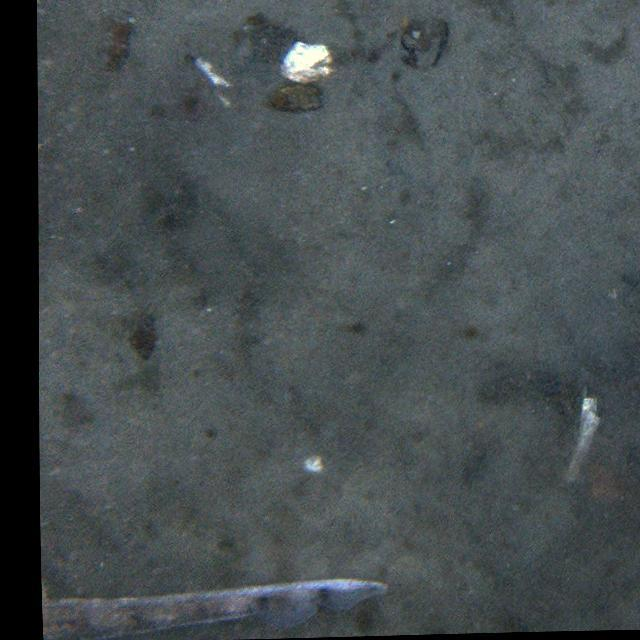skate: (41, 573, 392, 633)
